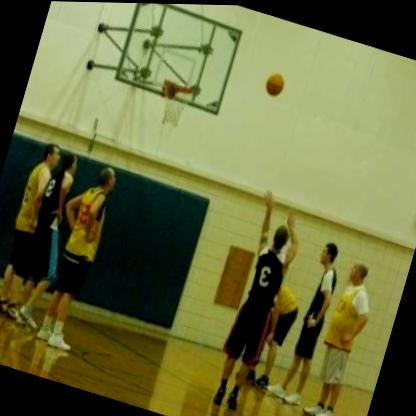basketball: (259, 65, 292, 100)
